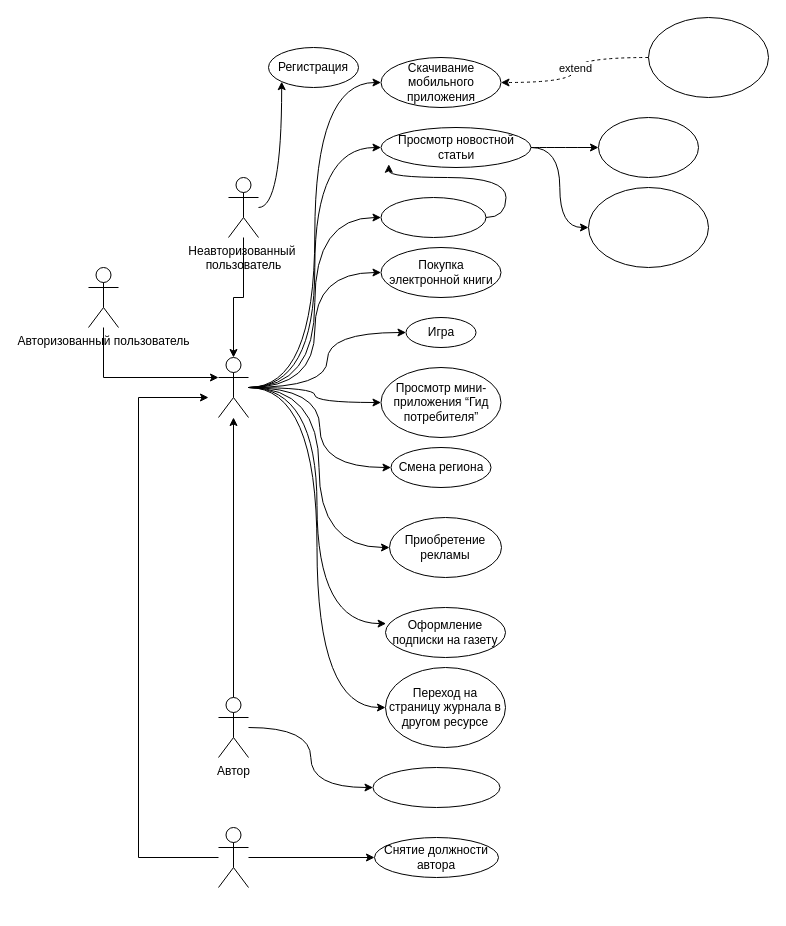
This 786x926 diagram has some shape labels left out. Here are the shapes that lost their labels. From the top down, the box of each, then its label:
(648, 16, 768, 98): Пользователь использует мобильную версию сайта
(598, 116, 698, 178): Переход на страницу автора
(380, 196, 486, 238): Выбор категории
(588, 186, 708, 268): Пользователь делится новостью в соц. сети
(218, 356, 248, 418): Пользователь
(372, 766, 500, 808): Создание новостной статьи
(218, 826, 248, 888): Администратор
